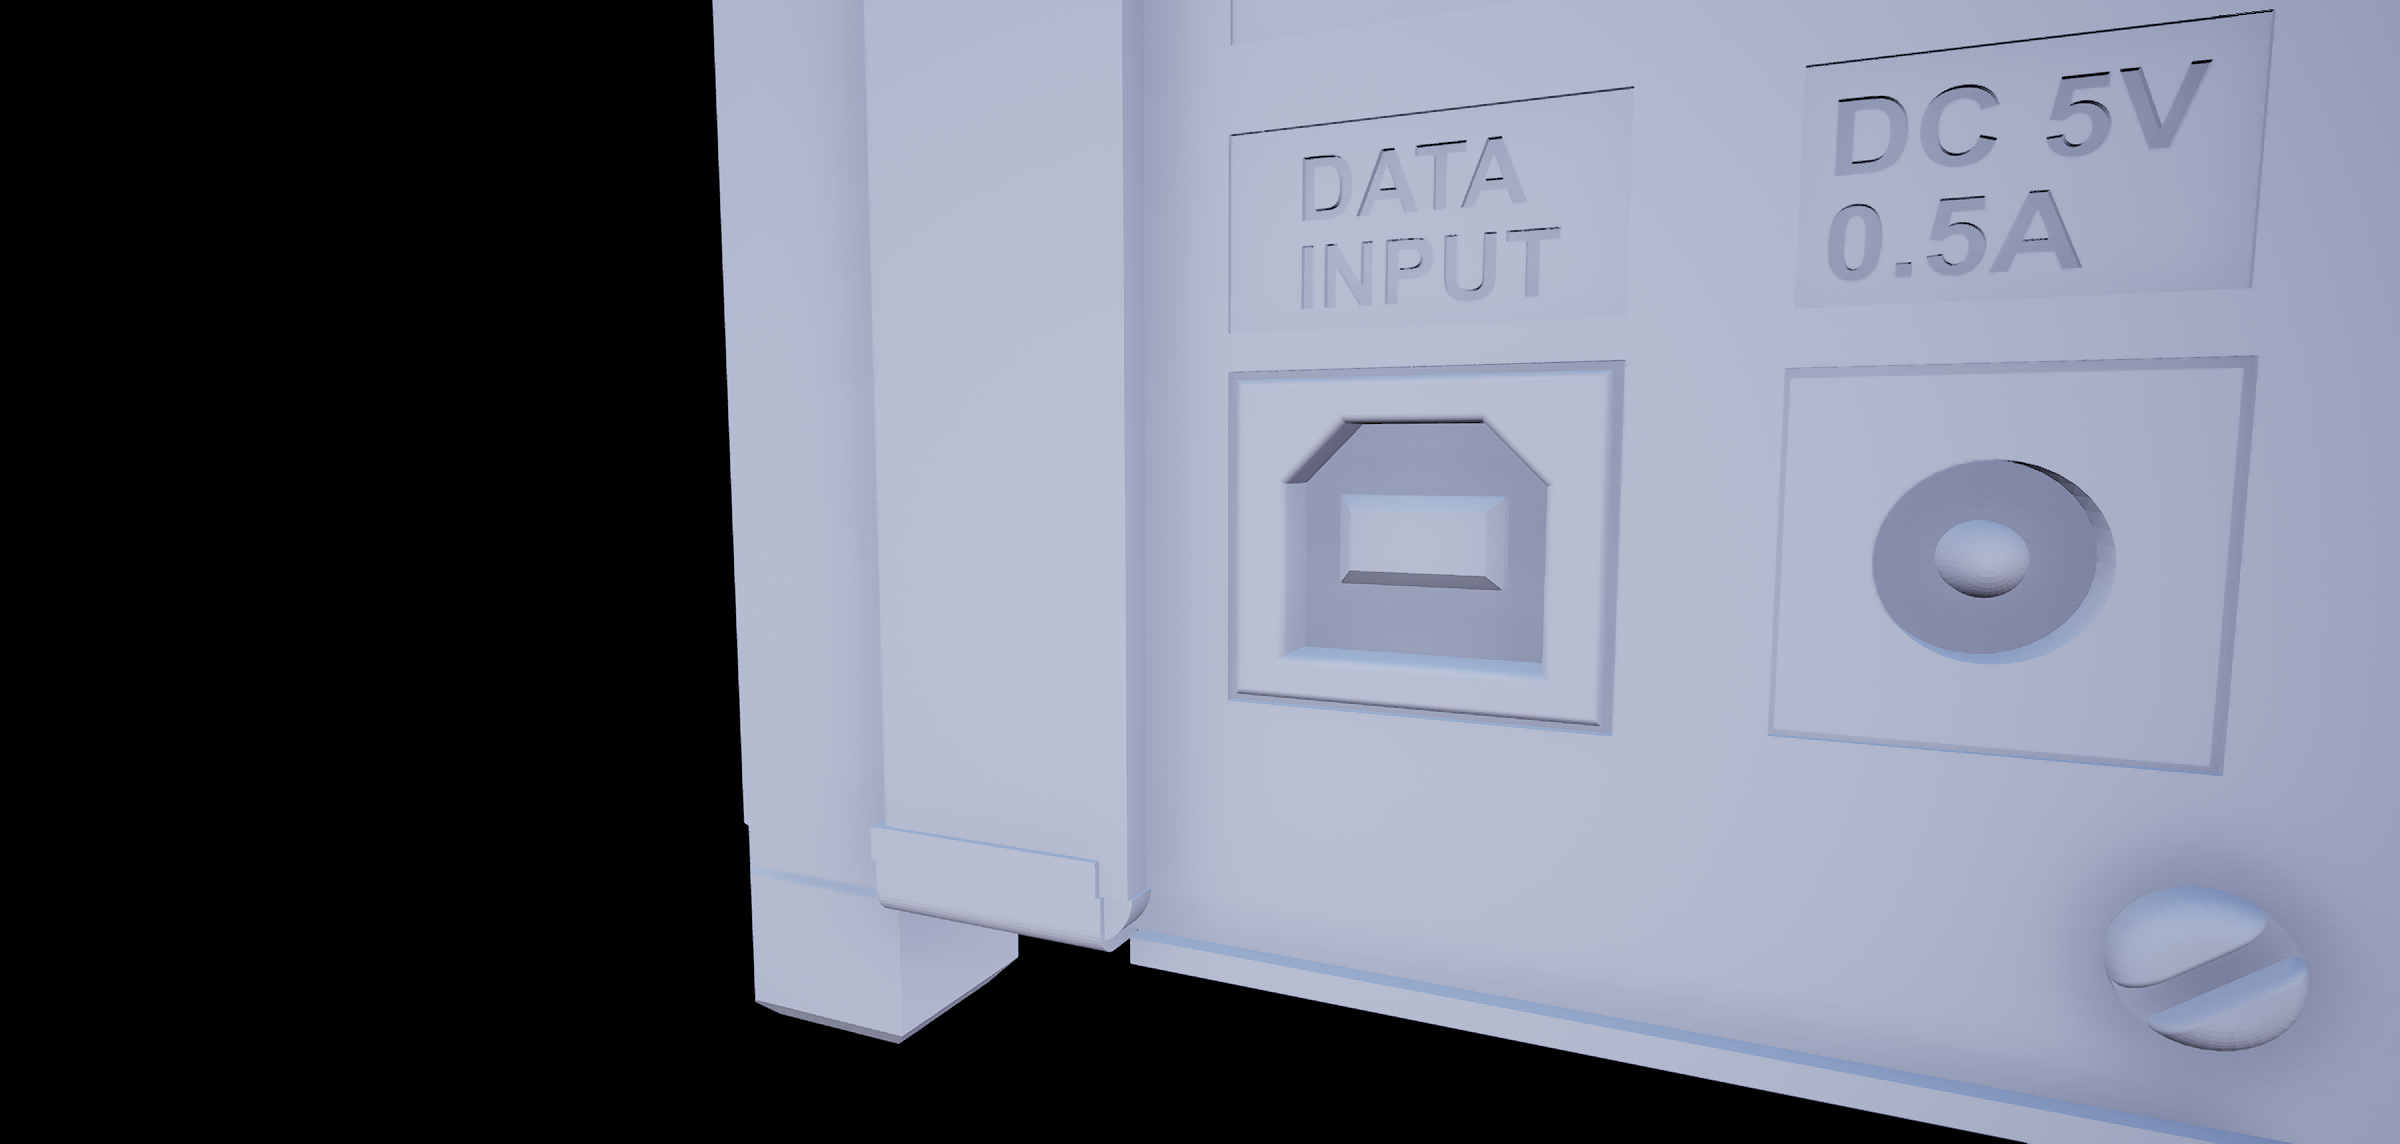dc: (1852, 433, 2134, 694)
usb: (1260, 397, 1575, 691)
